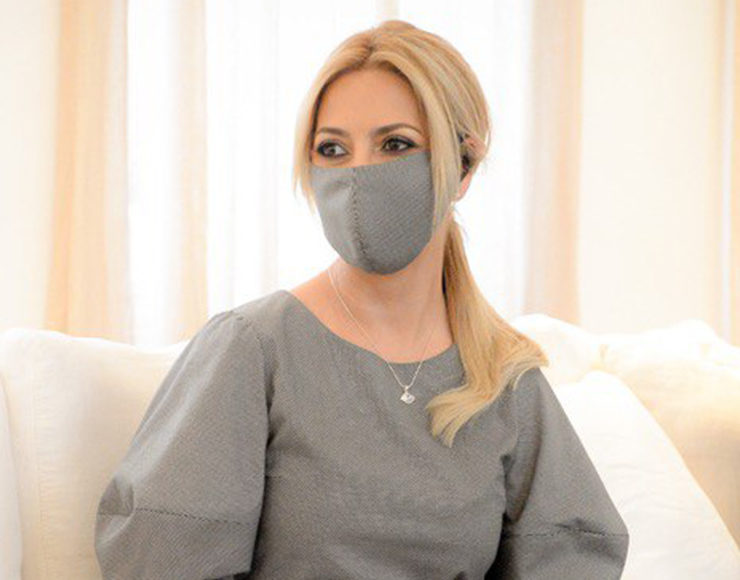barbijo: (300, 144, 446, 276)
